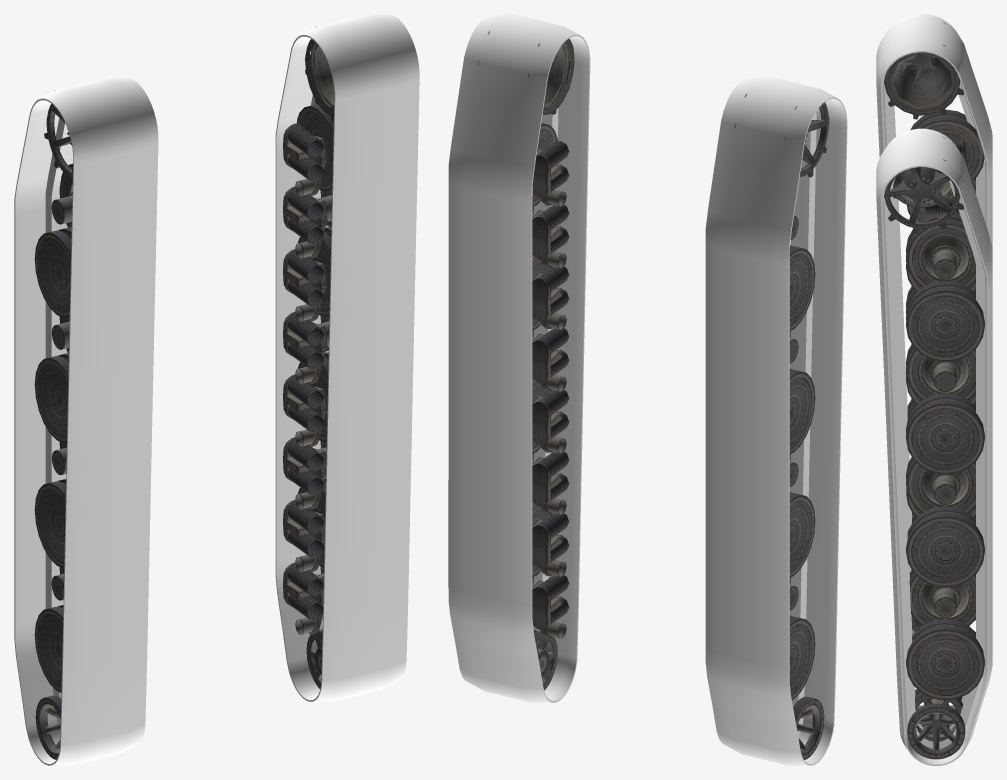
File: Chassis.glb
3 views of the same model, side by side, from view 1: azimuth 30°, elevation 25°; view 2: azimuth 150°, elevation 25°; view 3: azimuth 270°, elevation 25° (orthographic). The views are drawn at different scales.
Visible parts, largest first — view 1: set_0_group_0, set_1_group_0, set_3_group_0, set_2_group_0; view 2: set_0_group_0, set_1_group_0, set_3_group_0, set_2_group_0; view 3: set_3_group_0, set_1_group_0, set_0_group_0, set_2_group_0.
Boxes of the visible parts, <box> form: set_0_group_0: <box>14,77,158,765</box>; set_1_group_0: <box>275,14,419,702</box>; set_3_group_0: <box>283,27,334,688</box>; set_2_group_0: <box>34,90,72,759</box>; set_0_group_0: <box>705,76,847,765</box>; set_1_group_0: <box>448,14,590,703</box>; set_3_group_0: <box>477,31,574,690</box>; set_2_group_0: <box>734,94,829,759</box>; set_3_group_0: <box>884,137,984,759</box>; set_1_group_0: <box>876,128,992,765</box>; set_0_group_0: <box>876,14,992,635</box>; set_2_group_0: <box>884,22,984,631</box>.
Bounding box in the file's own units: 4.1 × 7.66 × 1.33.
Materials: 4 (2 with a texture image).
